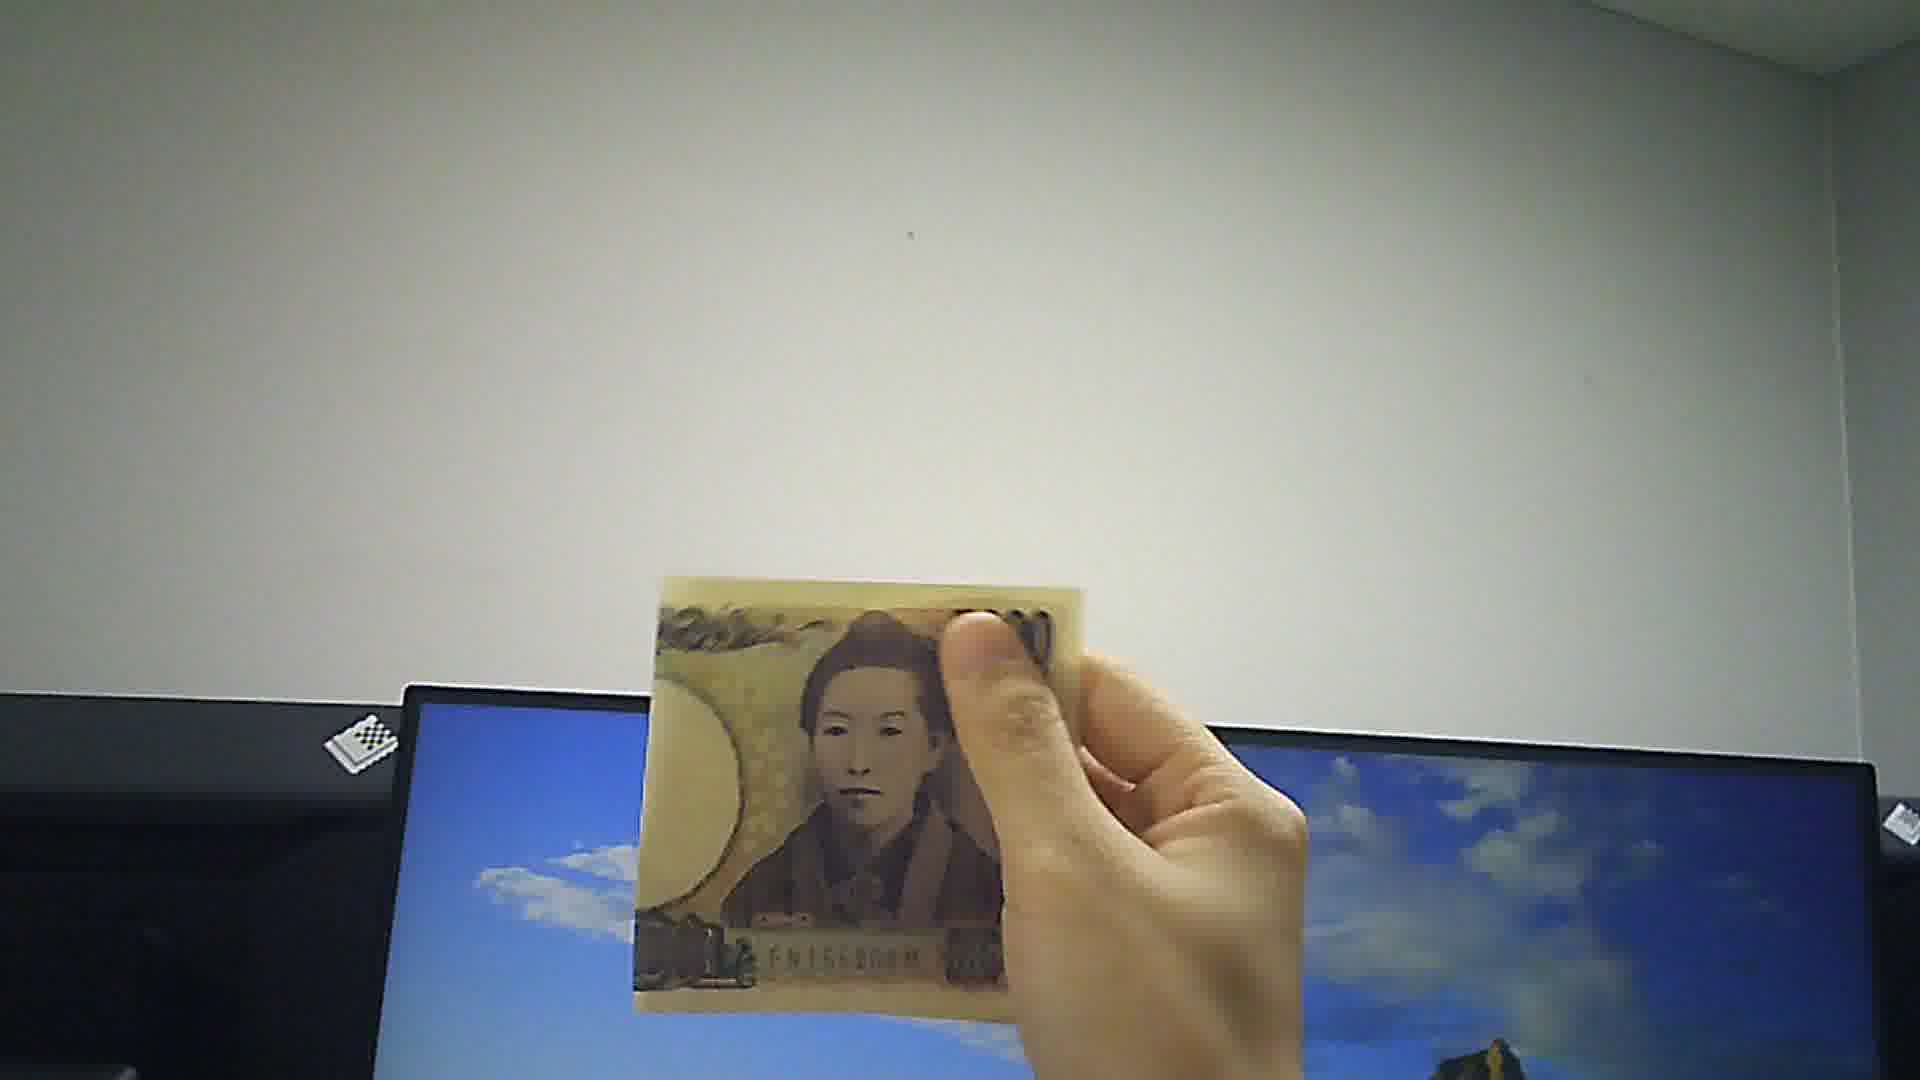5,000 Yen: (622, 559, 1097, 1029)
